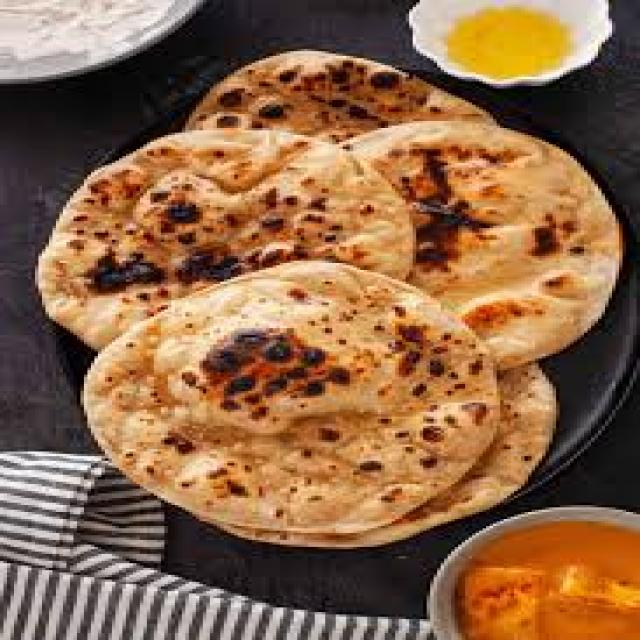ROTI: (28, 43, 637, 541)
